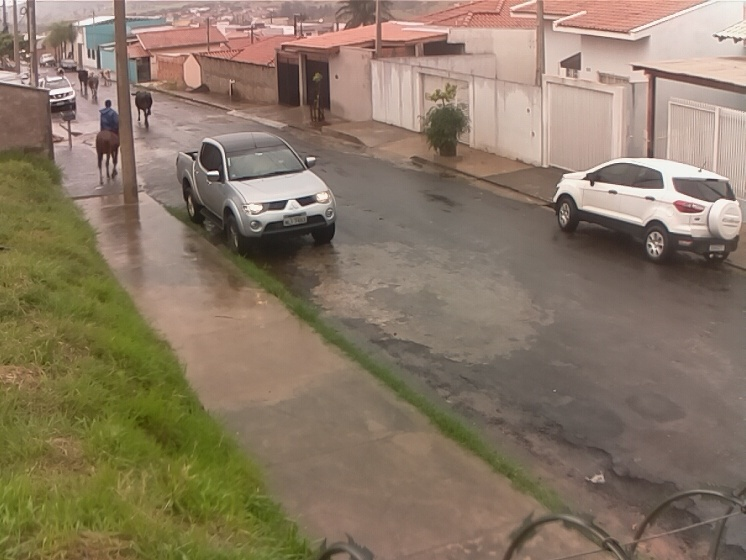person: (96, 98, 121, 138)
